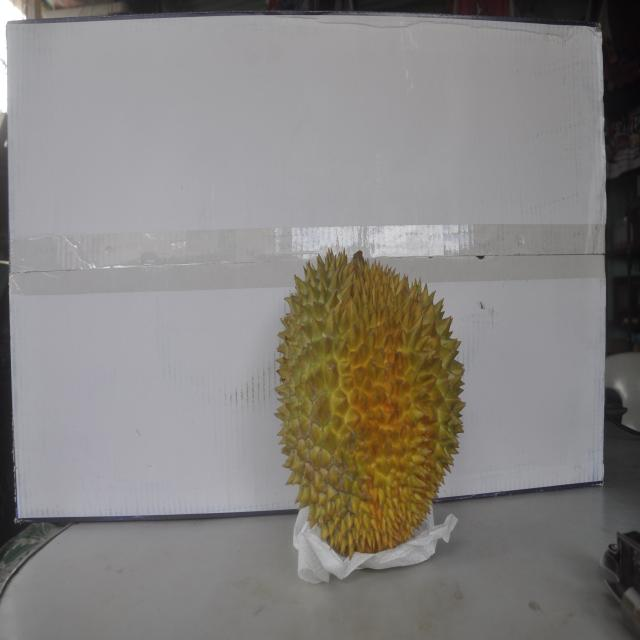mature: (277, 241, 458, 558)
